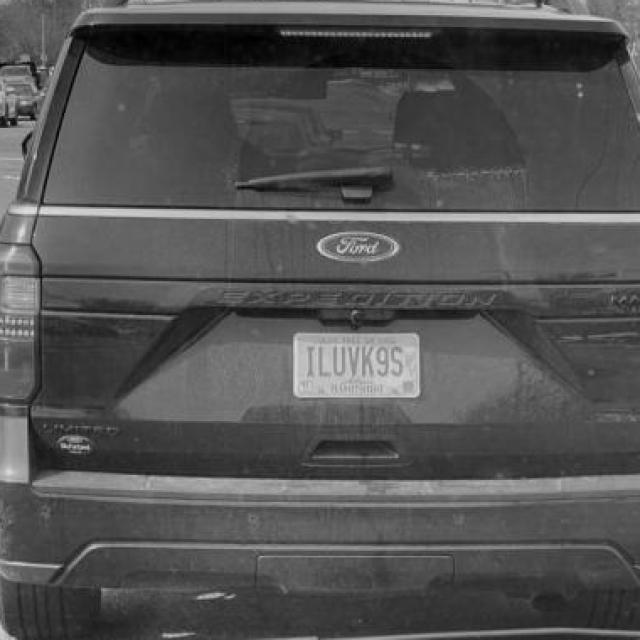licenseplate: (291, 331, 420, 397)
